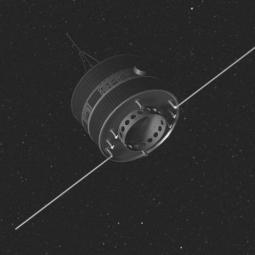double_start: (58, 39, 192, 169)
